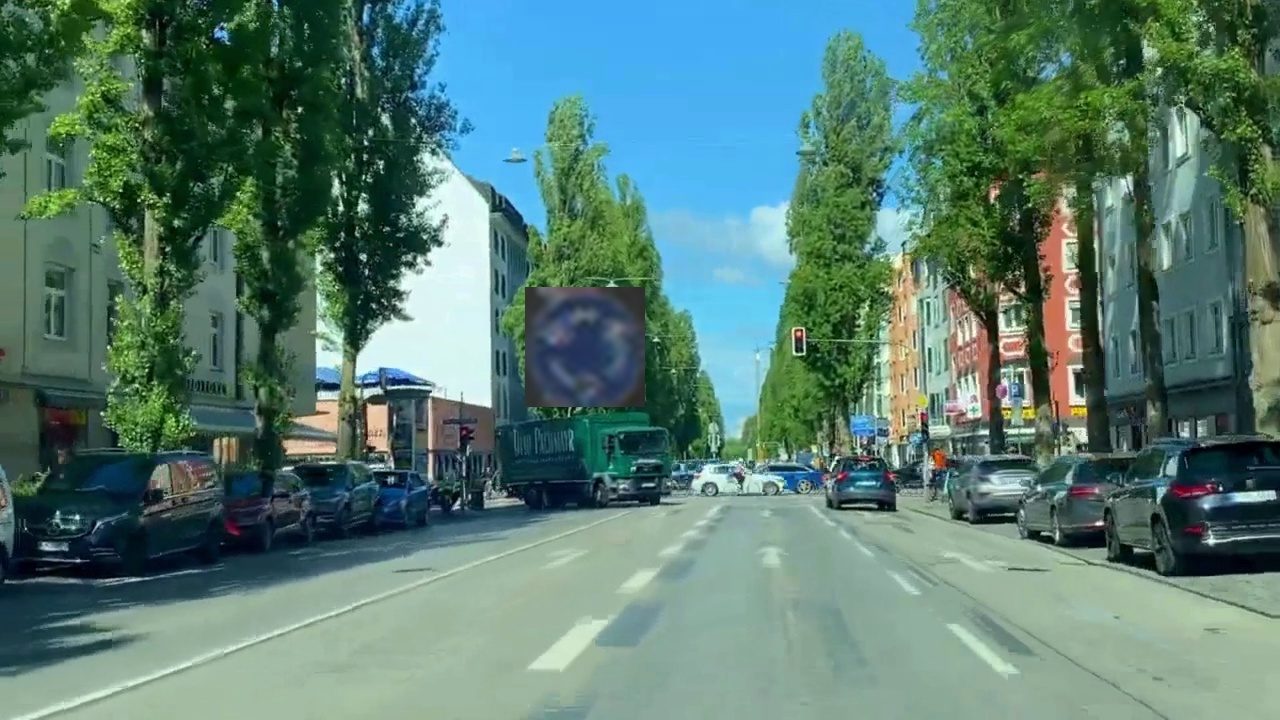Roundabout: (525, 287, 645, 407)
